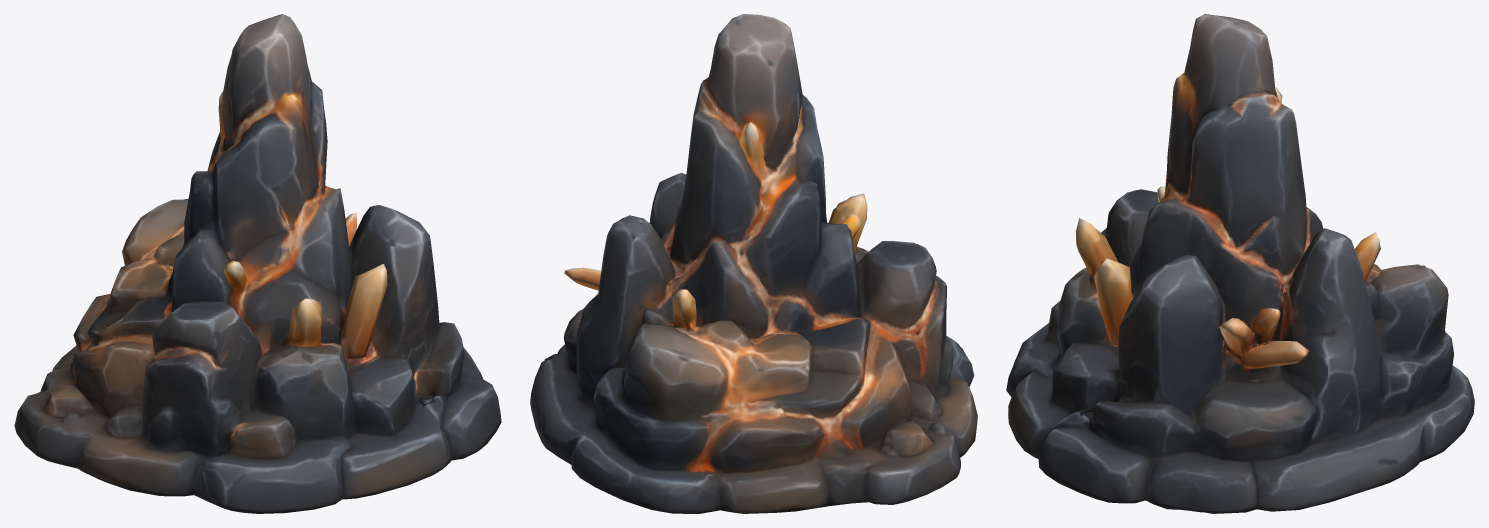
The model's file is int_rock_boulder.glb.
3 renders of one model, left to right at view 1: azimuth 30°, elevation 25°; view 2: azimuth 150°, elevation 25°; view 3: azimuth 270°, elevation 25°, orthographic.
Parts seen in each view (by area): view 1: world; view 2: world; view 3: world.
Boxes of the visible parts, x1,y1,x2,y2 form: world: (14,14,501,513); world: (530,14,977,513); world: (1006,14,1474,513).
Size of the model in its own units: 0.9975 by 0.9244 by 0.9631.
Materials: 1 (1 with a texture image).
